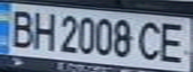0: (93, 15, 115, 57), (75, 13, 96, 55)
2: (54, 11, 78, 54)
8: (112, 16, 136, 58)
B: (3, 7, 39, 50)
C: (136, 18, 166, 62)
E: (154, 18, 193, 64)
H: (27, 8, 57, 52)
